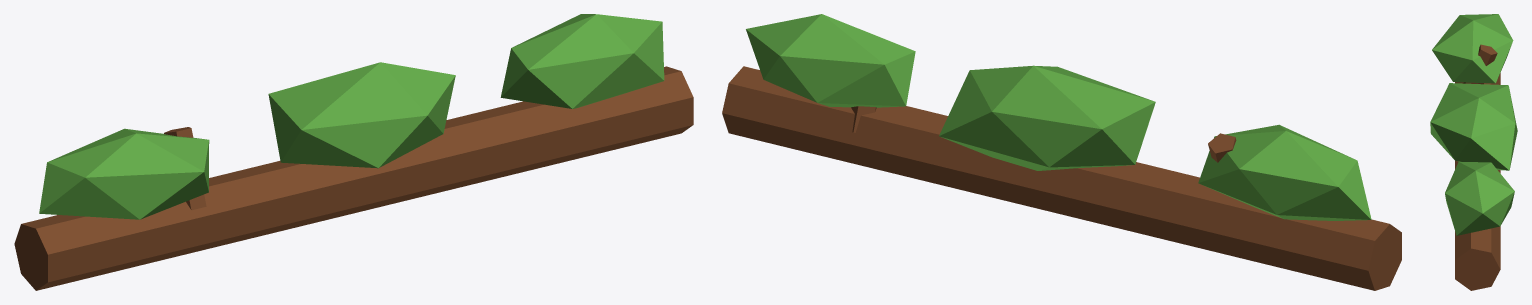
The model's file is branch.glb.
3 views of the same model, side by side, from view 1: azimuth 30°, elevation 25°; view 2: azimuth 150°, elevation 25°; view 3: azimuth 270°, elevation 25° (orthographic). The views are drawn at different scales.
Parts seen in each view (by area): view 1: Cylinder; view 2: Cylinder; view 3: Cylinder.
Part boxes in pixels (x1,y1,x2,y2): Cylinder: [14, 14, 693, 290]; Cylinder: [722, 14, 1401, 290]; Cylinder: [1430, 14, 1517, 290].
Bounding box in the file's own units: 1.1 × 0.2263 × 0.1891.
